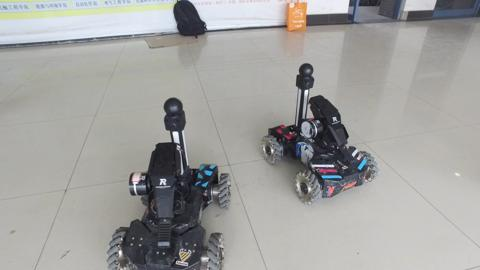chariot: (105, 93, 235, 270), (255, 60, 384, 210)
